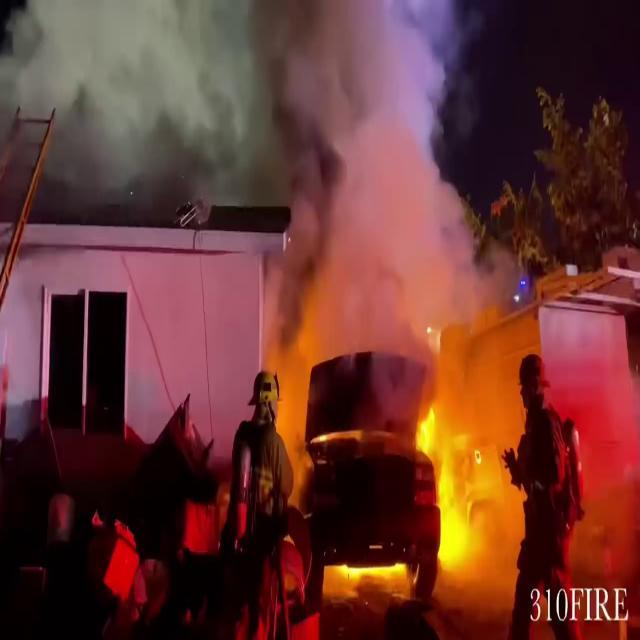Smoke: (2, 0, 500, 194)
